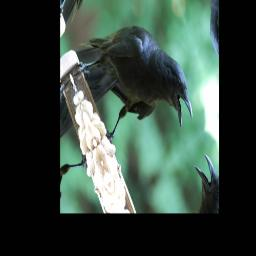Crow: (66, 0, 199, 194)
